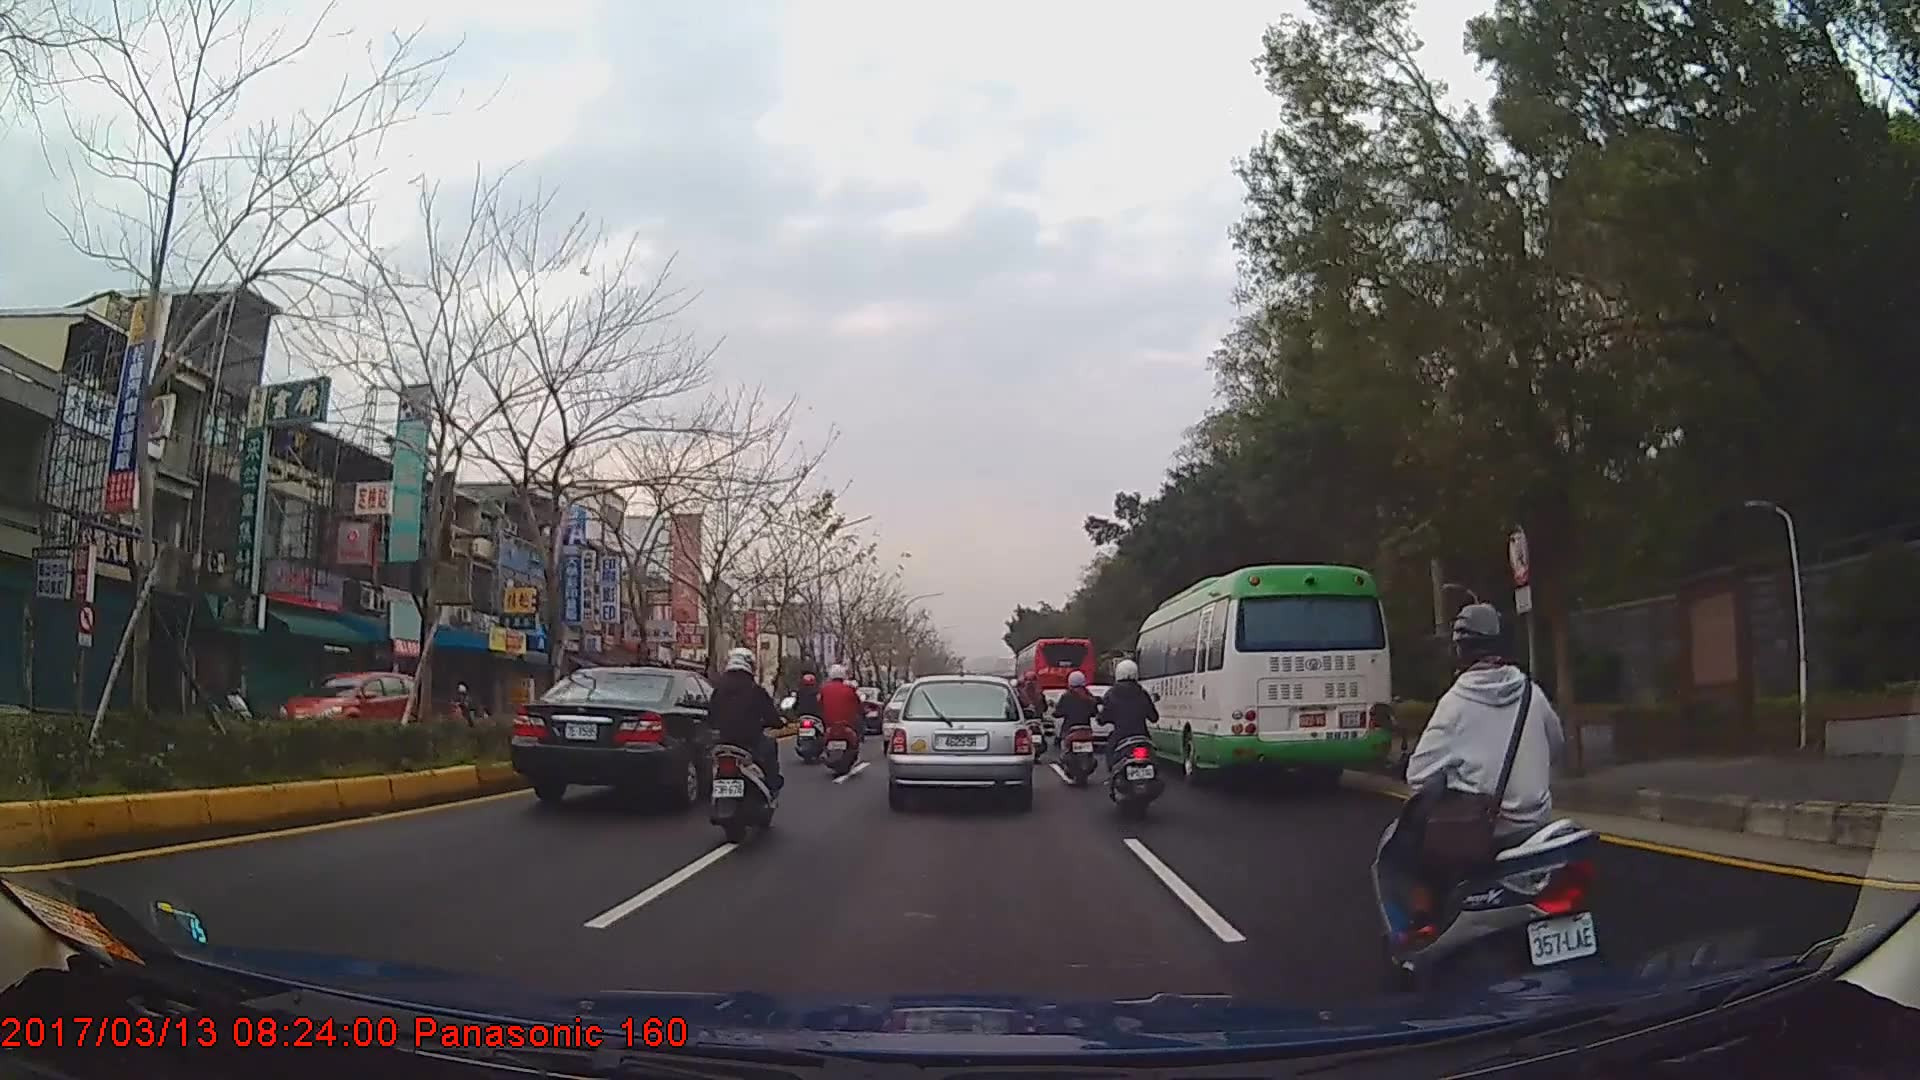rider: (1369, 598, 1600, 987), (702, 646, 797, 846), (1099, 659, 1171, 822), (1051, 670, 1101, 790), (818, 664, 863, 776), (792, 676, 830, 767), (1011, 671, 1045, 763), (448, 685, 474, 725)
vehicle: (1126, 565, 1394, 796), (509, 664, 758, 810), (886, 672, 1032, 809), (276, 671, 428, 751), (1012, 630, 1097, 726)
